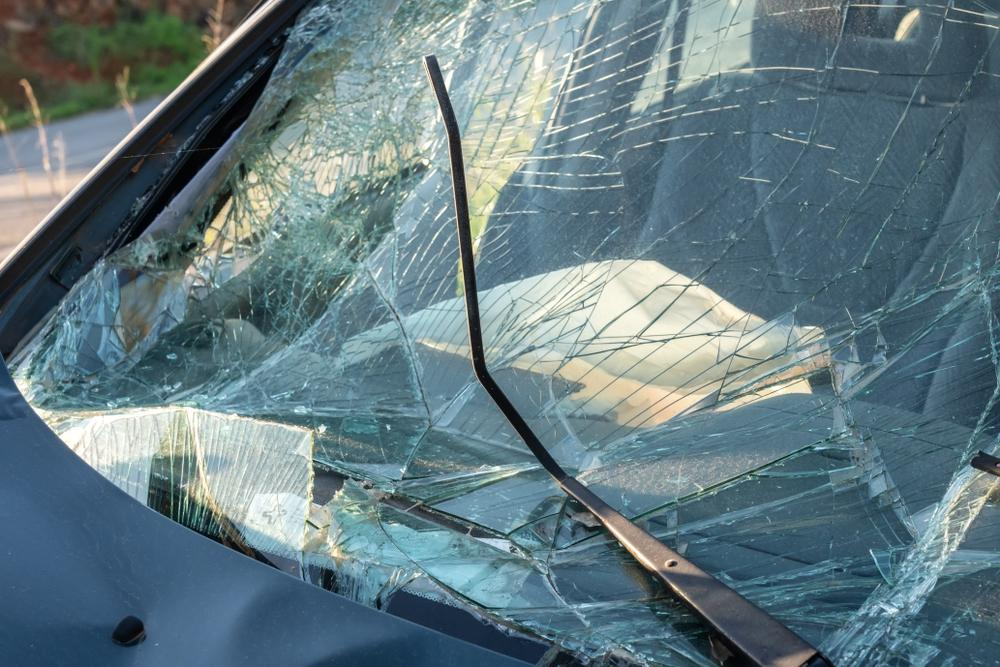glass shatter: (5, 0, 1000, 667)
